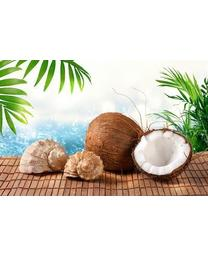coconut: (84, 112, 145, 177), (131, 126, 193, 182)
